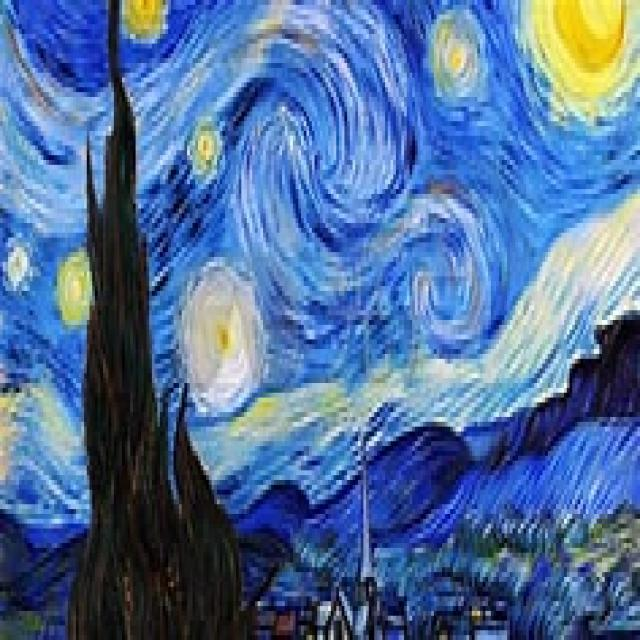starrynight: (1, 0, 640, 634)
